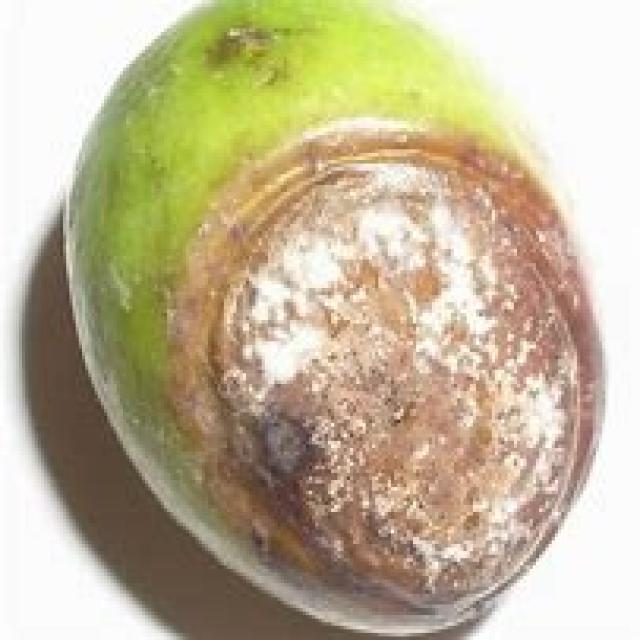Anthracnose: (70, 4, 602, 618)
